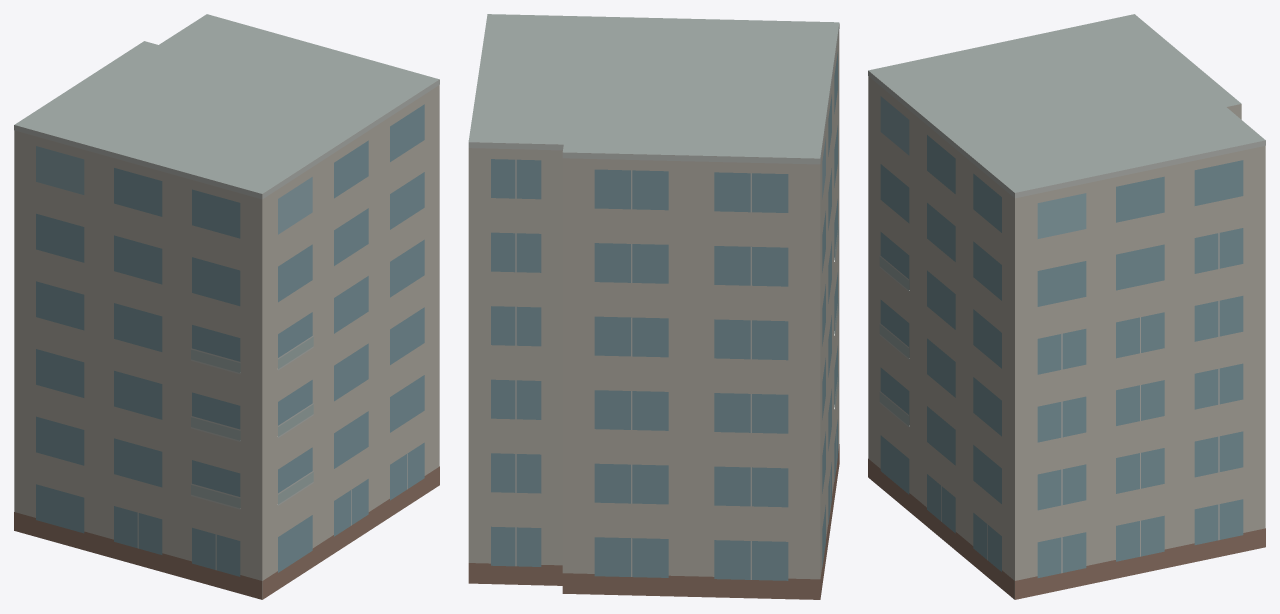
File: survey-upis-33011867.glb
3 renders of one model, left to right at view 1: azimuth 30°, elevation 25°; view 2: azimuth 150°, elevation 25°; view 3: azimuth 270°, elevation 25°, orthographic. The views are drawn at different scales.
Visible parts, largest first — view 1: survey-upis-33011867.tmp; view 2: survey-upis-33011867.tmp; view 3: survey-upis-33011867.tmp.
Boxes of the visible parts, left/top/right/bottom form: survey-upis-33011867.tmp: left=14, top=14, right=439, bottom=599; survey-upis-33011867.tmp: left=468, top=14, right=839, bottom=599; survey-upis-33011867.tmp: left=868, top=14, right=1265, bottom=599.
Bounding box in the file's own units: 17.27 × 18.3 × 16.22.
